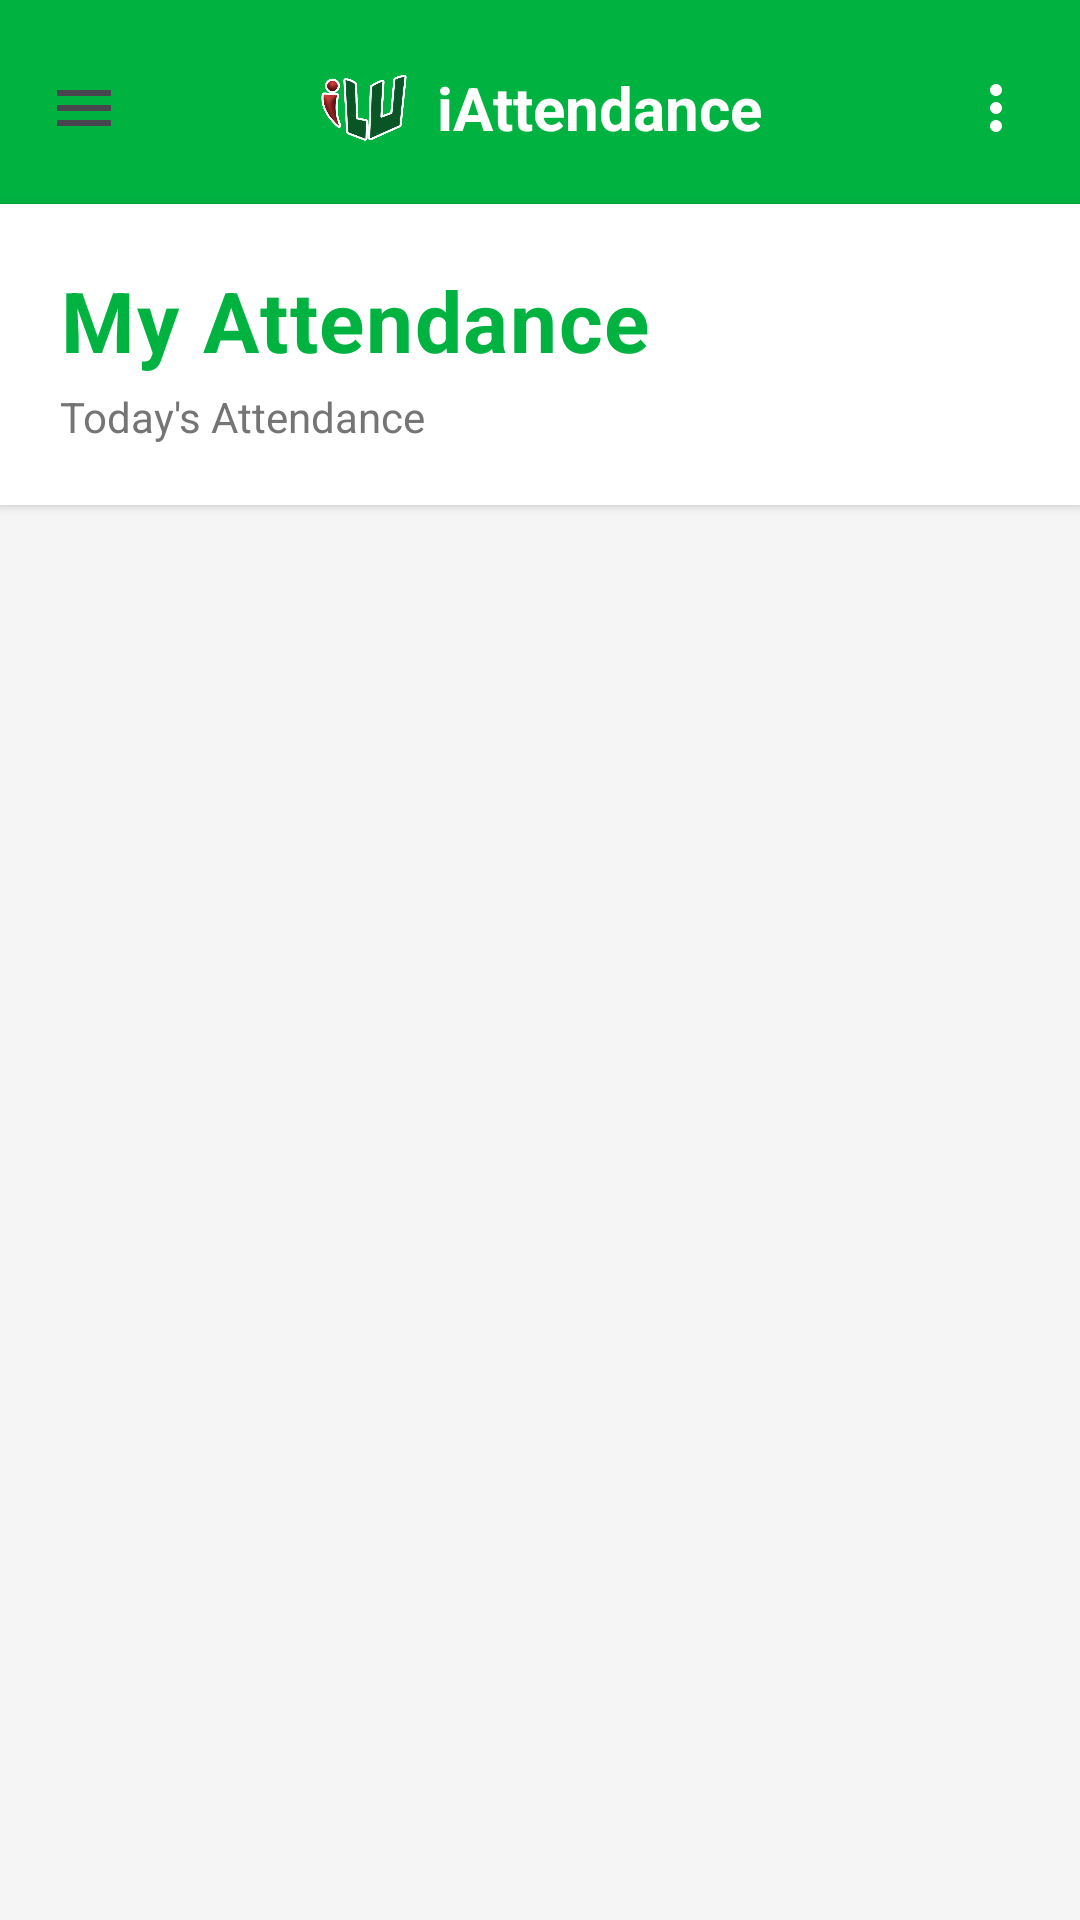

Icon bounding boxes for this 1080 × 1920 phone screenshot, format (x1, y1, x2, y2):
menu: (57, 90, 111, 126)
more vert: (990, 84, 1002, 132)
